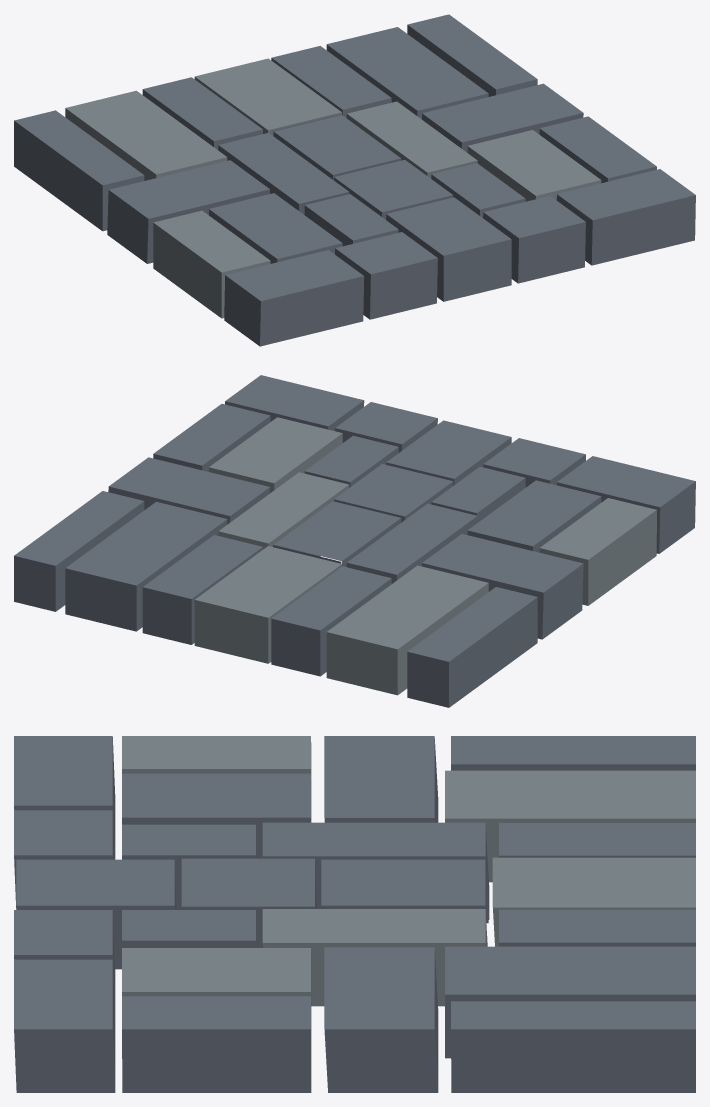
File: Path_Square.glb
The picture shows the model from 3 angles, top to bottom: view 1: azimuth 30°, elevation 25°; view 2: azimuth 150°, elevation 25°; view 3: azimuth 270°, elevation 25°; orthographic projection. The views are drawn at different scales.
Visible parts, largest first — view 1: Path_Square; view 2: Path_Square; view 3: Path_Square.
Part boxes in pixels (bbox=[...]): Path_Square: bbox=[14, 14, 695, 346]; Path_Square: bbox=[14, 375, 695, 707]; Path_Square: bbox=[14, 736, 695, 1092].
Bounding box in the file's own units: 0.4856 × 0.0491 × 0.4773.
